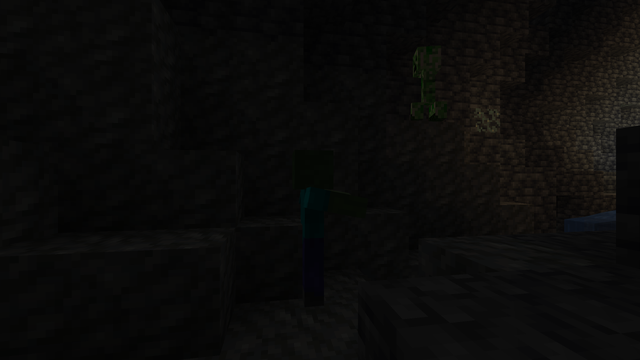creepers: (407, 40, 445, 122)
zombies: (288, 153, 337, 310)
